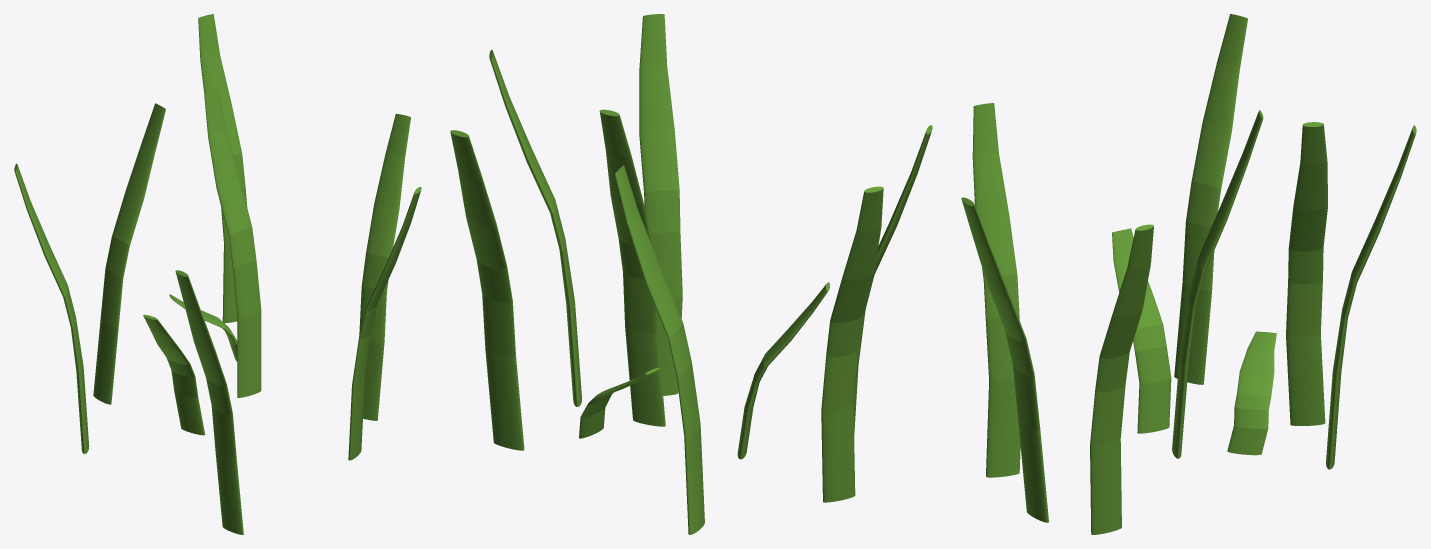
The model's file is Grass.fbx.
The picture shows the model from 3 angles, left to right: view 1: azimuth 30°, elevation 25°; view 2: azimuth 150°, elevation 25°; view 3: azimuth 270°, elevation 25°; orthographic projection. The views are drawn at different scales.
Visible parts, largest first — view 1: Grass; view 2: Grass; view 3: Grass.
Part boxes in pixels (x1,y1,x2,y2): Grass: (14, 14, 421, 534); Grass: (450, 14, 932, 534); Grass: (961, 14, 1416, 534).
Size of the model in its own units: 69.99 by 66.77 by 63.91.
